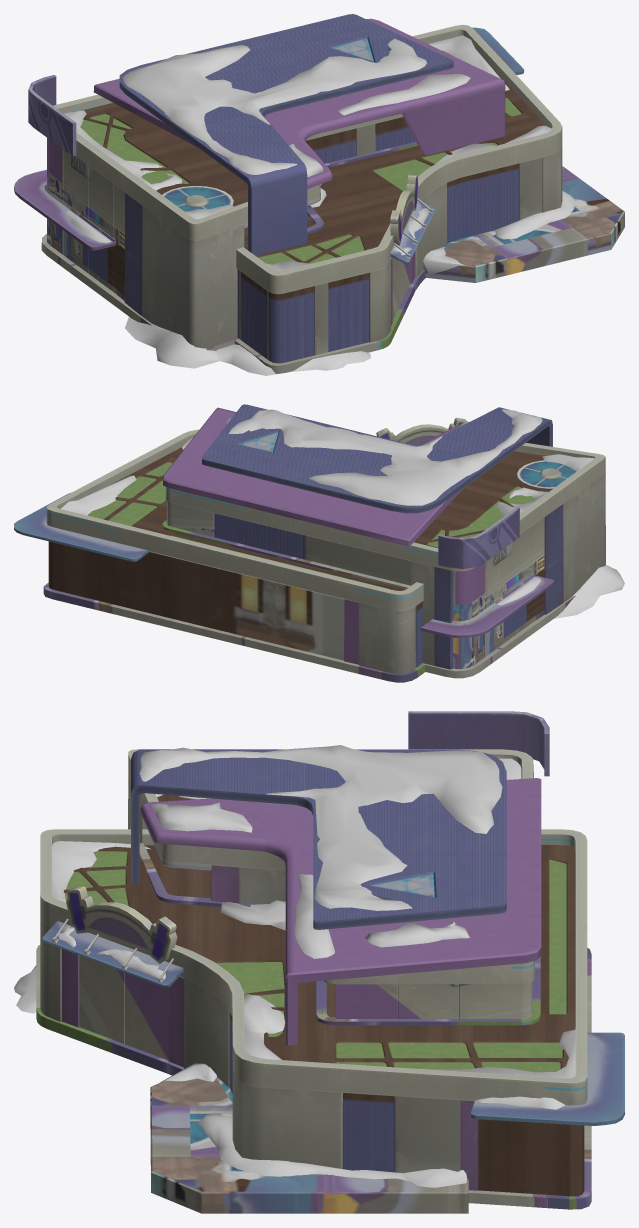
File: pref_sm_city_shop03_snow_lv3.fbx
3 renders of one model, top to bottom at view 1: azimuth 30°, elevation 25°; view 2: azimuth 150°, elevation 25°; view 3: azimuth 270°, elevation 25°, orthographic. The views are drawn at different scales.
Parts seen in each view (by area): view 1: sm_city_shop03_snow_lv3, sm_city_shop03b_snow_lv3; view 2: sm_city_shop03_snow_lv3, sm_city_shop03b_snow_lv3; view 3: sm_city_shop03_snow_lv3, sm_city_shop03b_snow_lv3.
Part boxes in pixels (x1,y1,x2,y2): sm_city_shop03_snow_lv3: (14, 14, 624, 373); sm_city_shop03b_snow_lv3: (64, 35, 574, 375); sm_city_shop03_snow_lv3: (14, 404, 605, 682); sm_city_shop03b_snow_lv3: (61, 409, 624, 618); sm_city_shop03_snow_lv3: (36, 711, 624, 1213); sm_city_shop03b_snow_lv3: (14, 745, 575, 1187).
Bounding box in the file's own units: 29.35 × 9.78 × 23.96.
